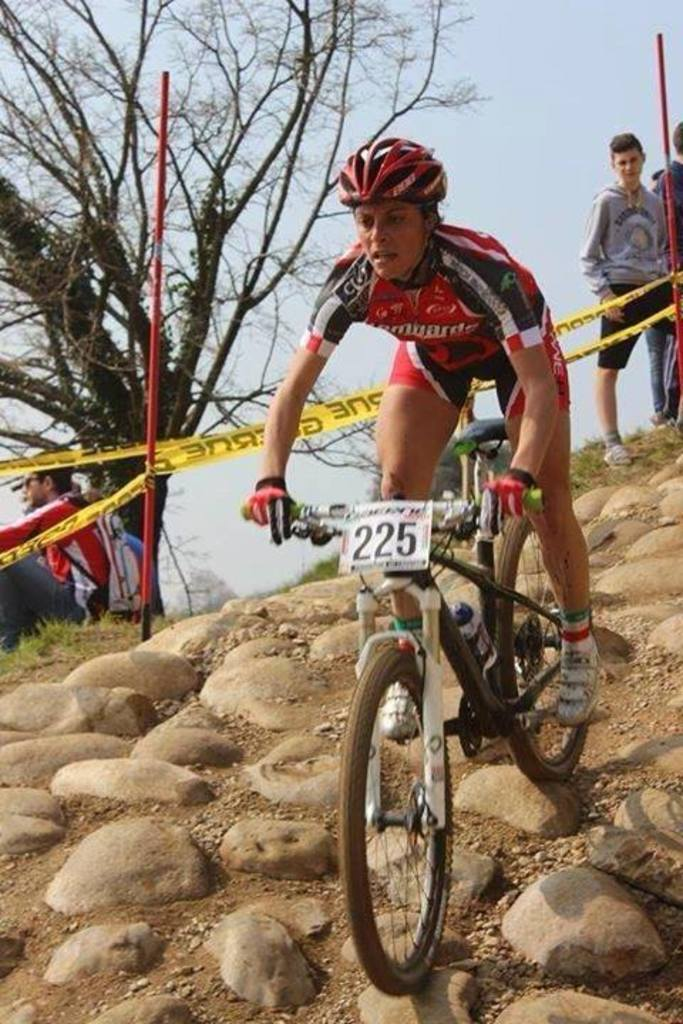Person: (241, 133, 603, 741), (576, 132, 676, 470), (0, 447, 111, 654), (643, 125, 683, 423), (86, 494, 159, 630)
